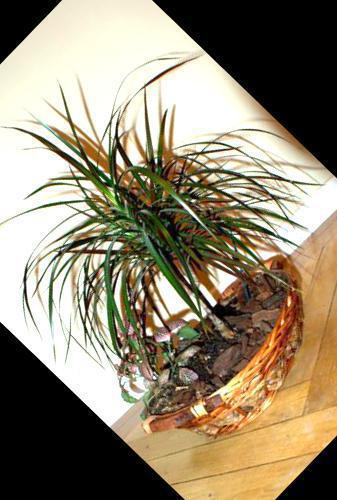Matera: (0, 1, 337, 491)
